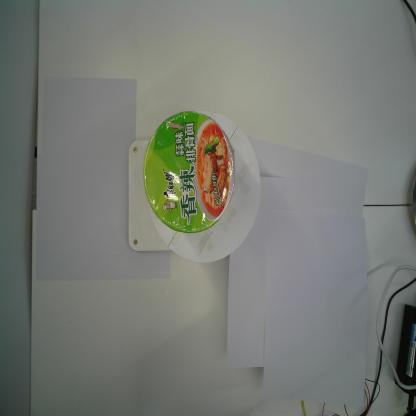Instant Noodles: (143, 110, 236, 235)
